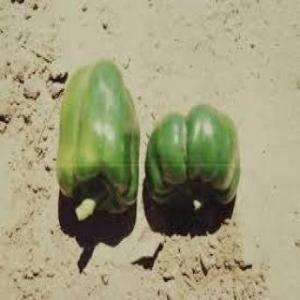bell_pepper: (48, 60, 142, 228), (142, 103, 245, 225)
